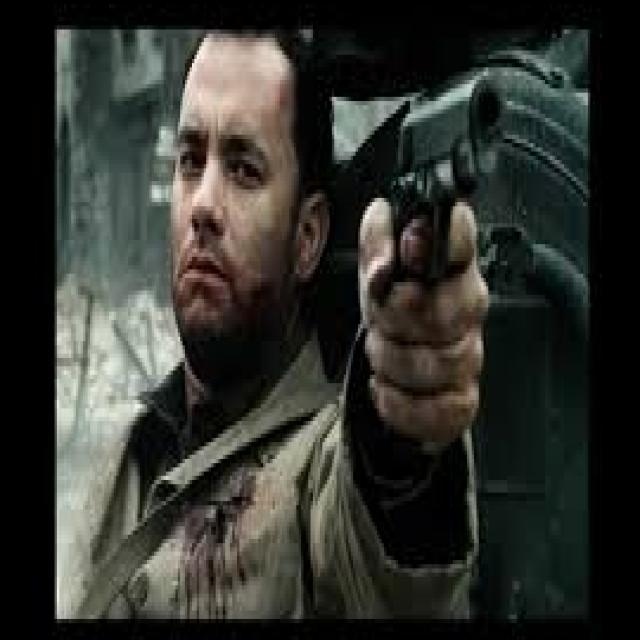gun: (329, 55, 523, 384)
